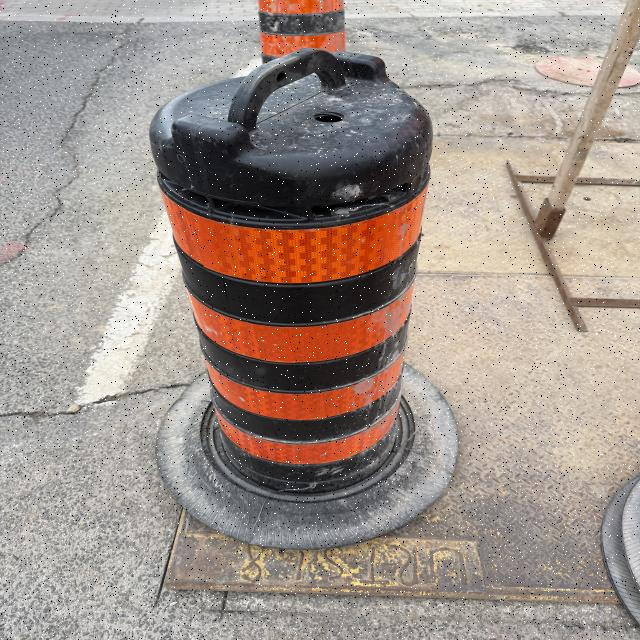Teraffic Barrel: (150, 49, 454, 547), (258, 0, 346, 62)
